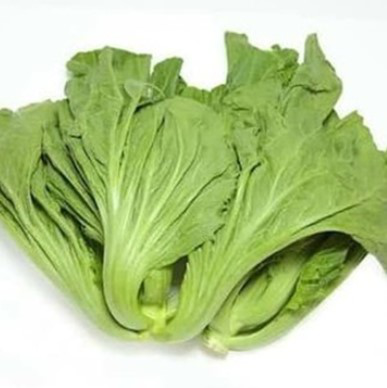Sawi: (13, 28, 387, 362)
